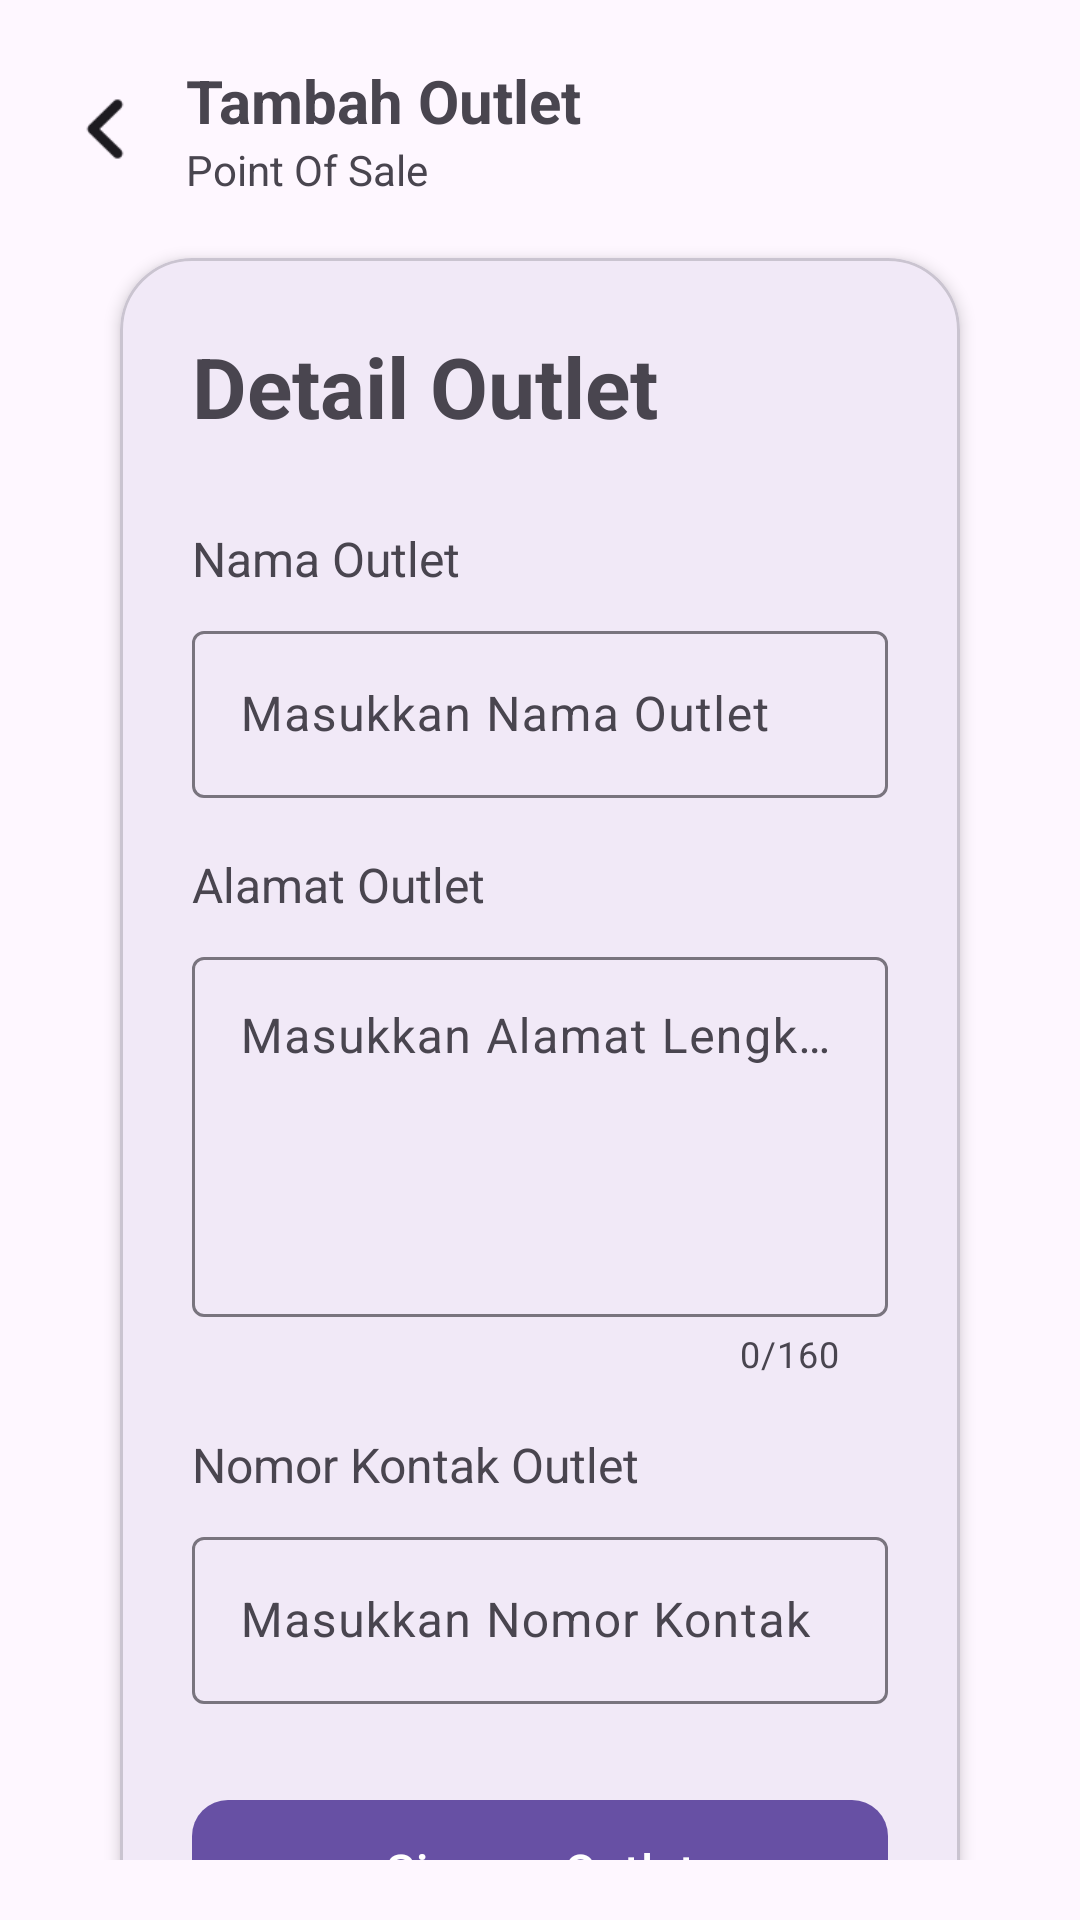

Named icons in this screenshot (1080 x 1920) and their bounding boxes, (x1, y1, x2, y2):
kembali: (86, 99, 124, 159)
